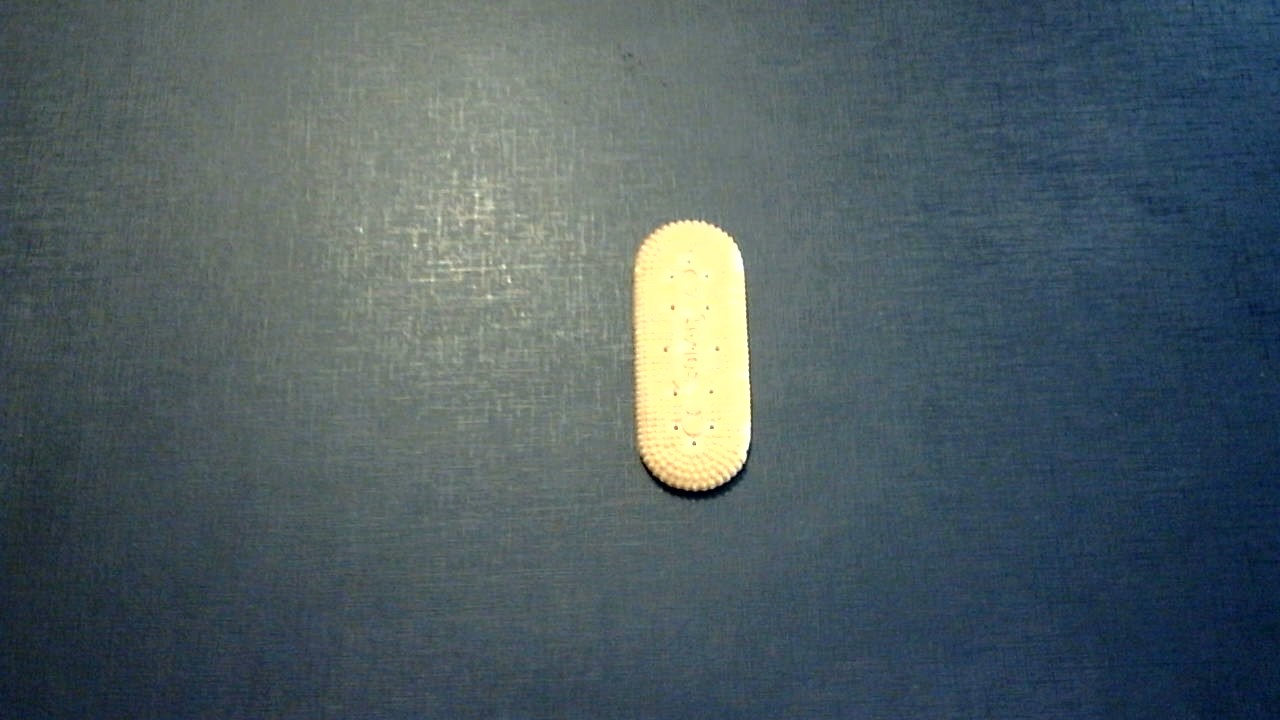solar: (633, 219, 752, 493)
